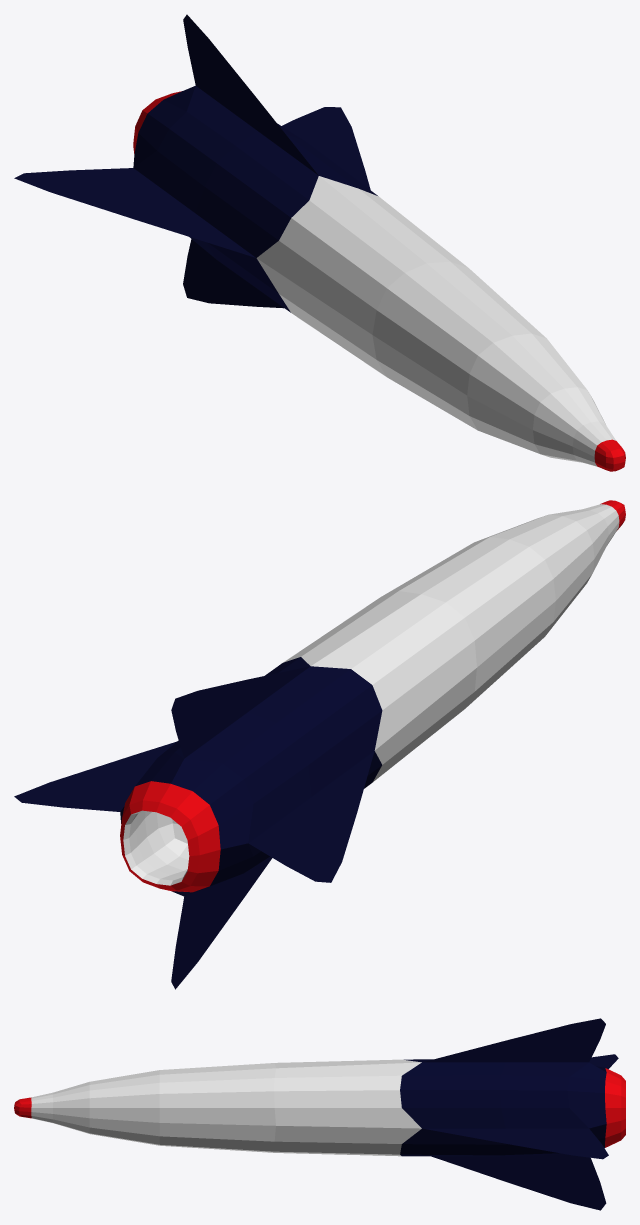
File: Missile.glb
3 renders of one model, top to bottom at view 1: azimuth 30°, elevation 25°; view 2: azimuth 150°, elevation 25°; view 3: azimuth 270°, elevation 25°, orthographic. The views are drawn at different scales.
Visible parts, largest first — view 1: Cube; view 2: Cube; view 3: Cube.
Part boxes in pixels (bbox=[...]): Cube: bbox=[14, 14, 625, 471]; Cube: bbox=[14, 500, 625, 989]; Cube: bbox=[14, 1018, 625, 1210].
Bounding box in the file's own units: 2.76 × 2.35 × 6.79.
